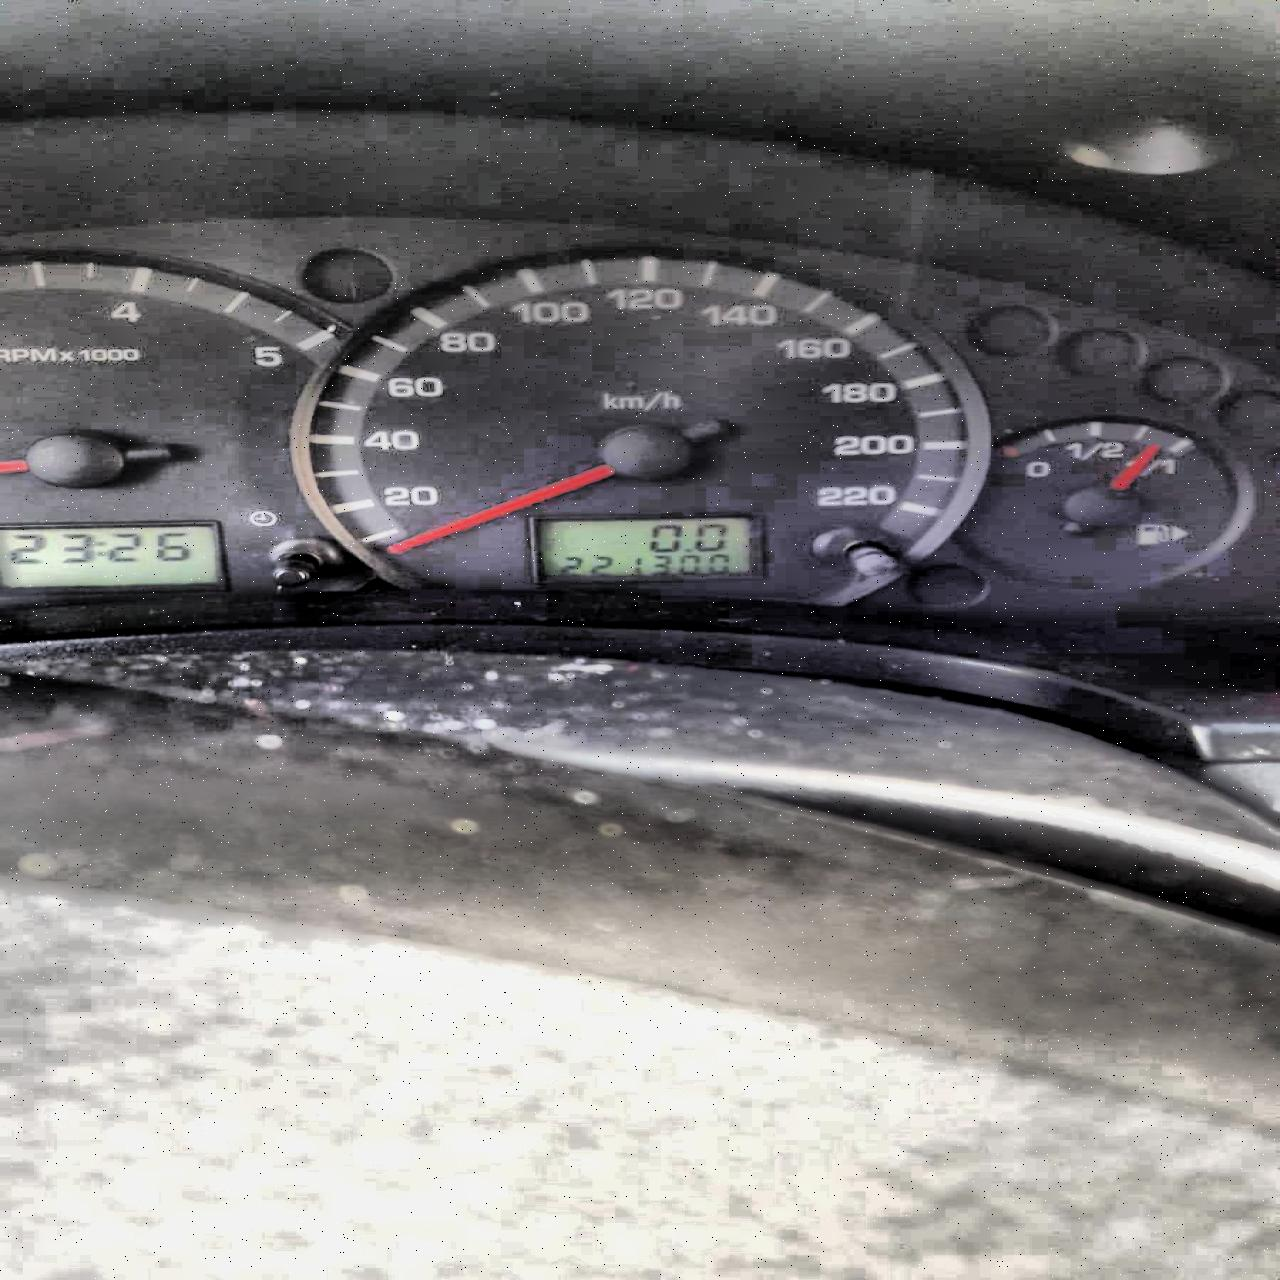-: (682, 547, 692, 552)
0: (648, 523, 682, 551), (692, 524, 726, 551), (707, 553, 728, 574), (678, 554, 700, 573)
1: (632, 557, 644, 576)
2: (558, 556, 581, 577), (590, 556, 613, 576)
3: (649, 554, 670, 574)
odometer: (533, 516, 756, 578)
